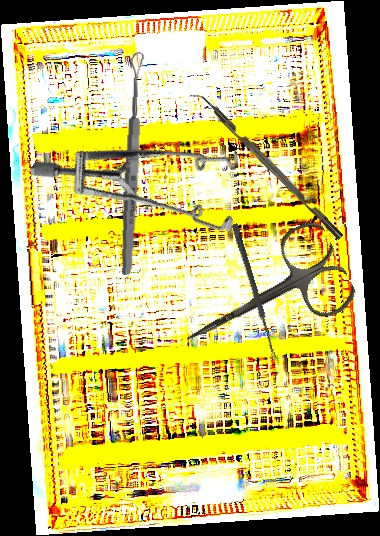Chopper: (187, 86, 344, 247)
Iris Scissors: (164, 216, 361, 380)
Speculum: (27, 57, 273, 296)
Surgical Spoon: (230, 223, 279, 360), (119, 51, 146, 276)
